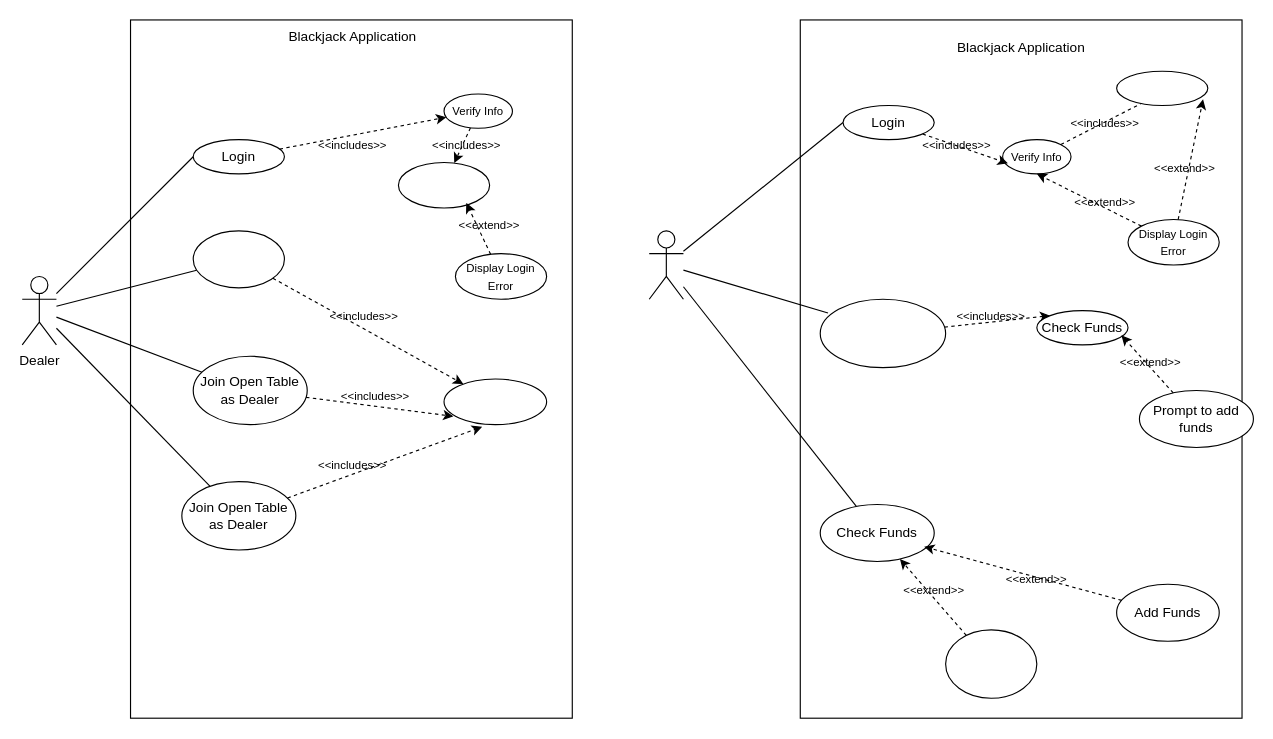
Image size: 1273x739. Some labels were removed from this diagram. Here are the shapes that lost their labels. From the top down, the centre of each, then its label:
At pixel 1161 87: "Verify Age".
At pixel 443 184: "Check Employe Registry".
At pixel 238 259: "Open Table".
At pixel 665 264: "Customer".
At pixel 882 333: "Join Table".
At pixel 495 401: "Play Game".
At pixel 990 663: "Cash Out".
